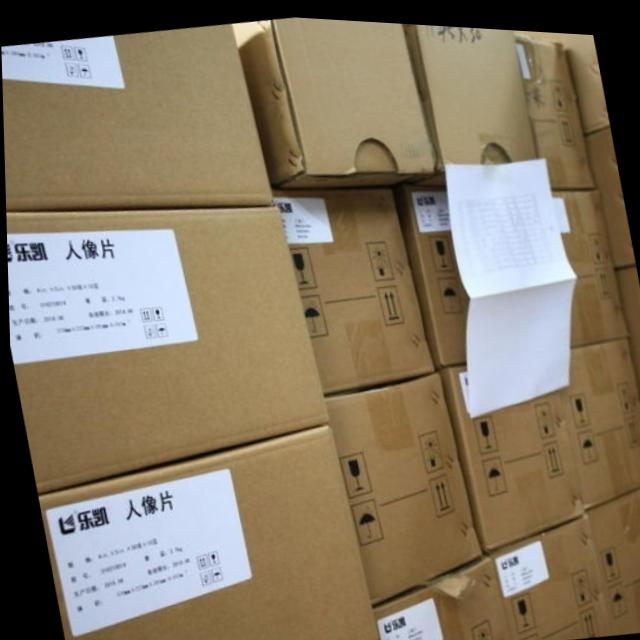box: (5, 202, 325, 492), (36, 421, 376, 640), (1, 22, 274, 208), (379, 484, 640, 640), (318, 368, 486, 601), (230, 14, 439, 185), (271, 180, 432, 393), (439, 356, 582, 553), (404, 19, 538, 158), (394, 177, 469, 363), (569, 328, 640, 509), (514, 24, 595, 182), (525, 24, 607, 126), (584, 119, 634, 265), (611, 255, 640, 390)
